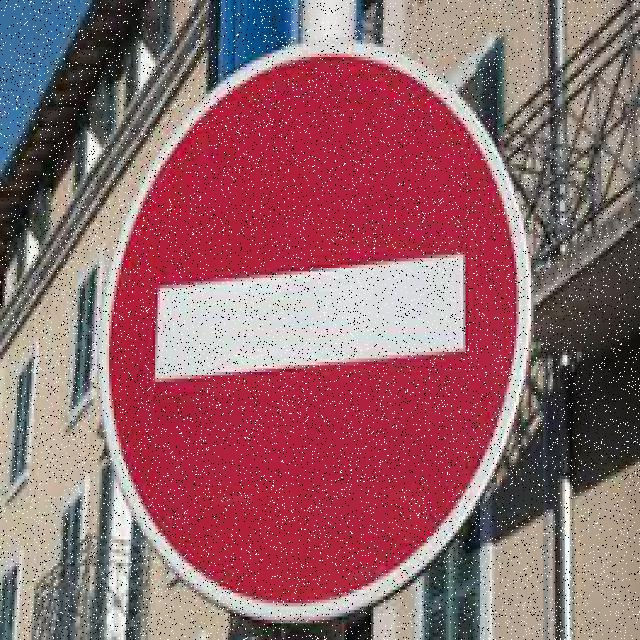no entry: (109, 54, 516, 596)
